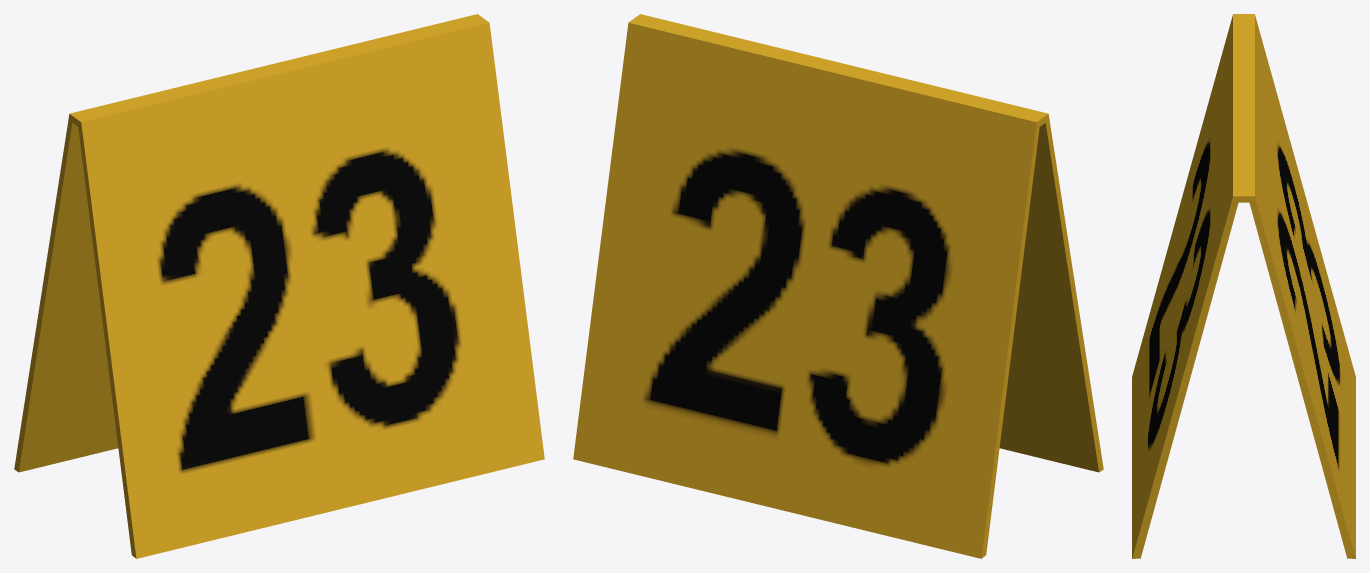
Rendered from card_23.fbx.
3 renders of one model, left to right at view 1: azimuth 30°, elevation 25°; view 2: azimuth 150°, elevation 25°; view 3: azimuth 270°, elevation 25°, orthographic. The views are drawn at different scales.
Parts seen in each view (by area): view 1: card.023; view 2: card.023; view 3: card.023.
Part boxes in pixels (x1,y1,x2,y2): card.023: [14, 14, 544, 558]; card.023: [573, 14, 1103, 558]; card.023: [1132, 14, 1355, 558].
Size of the model in its own units: 17.96 by 16.66 by 9.31.
